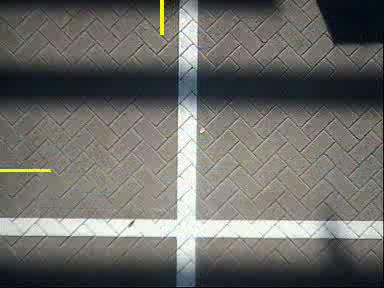groundmarker_2: (203, 173, 244, 232), (203, 1, 244, 59)
